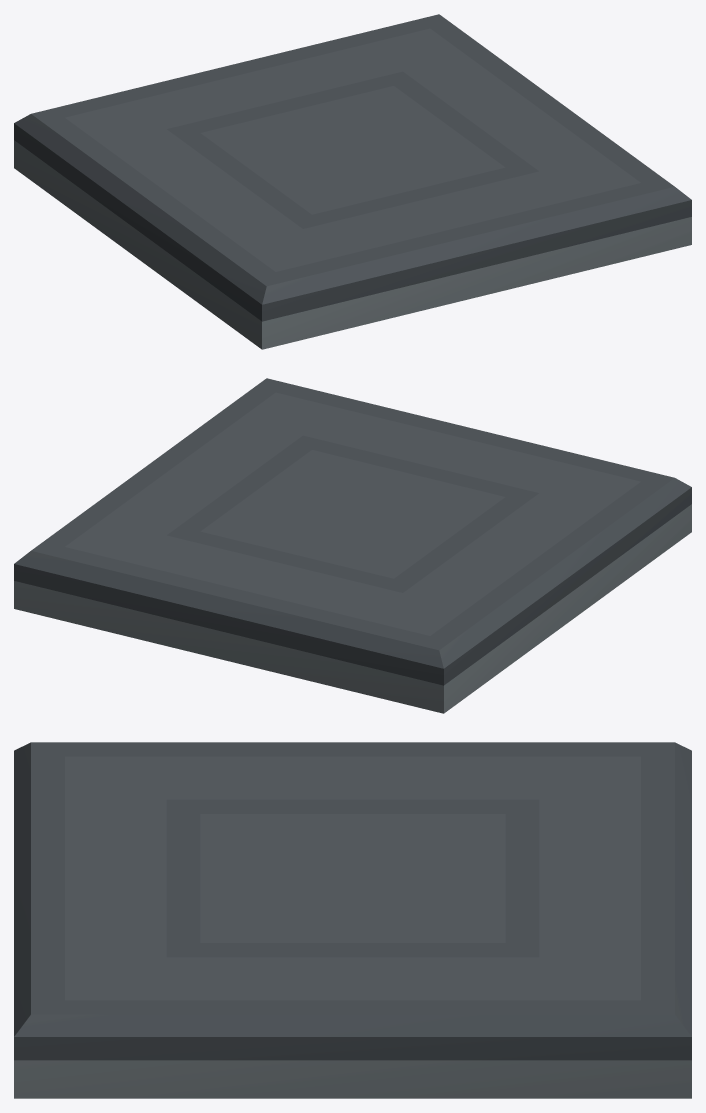
File: floor.glb
3 renders of one model, top to bottom at view 1: azimuth 30°, elevation 25°; view 2: azimuth 150°, elevation 25°; view 3: azimuth 270°, elevation 25°, orthographic. The views are drawn at different scales.
Visible parts, largest first — view 1: Floor; view 2: Floor; view 3: Floor.
Boxes of the visible parts, bbox=[...] form: Floor: bbox=[14, 14, 691, 349]; Floor: bbox=[14, 378, 691, 713]; Floor: bbox=[14, 742, 691, 1098].
Size of the model in its own units: 4 by 0.5 by 4.
Materials: 1 (1 with a texture image).
